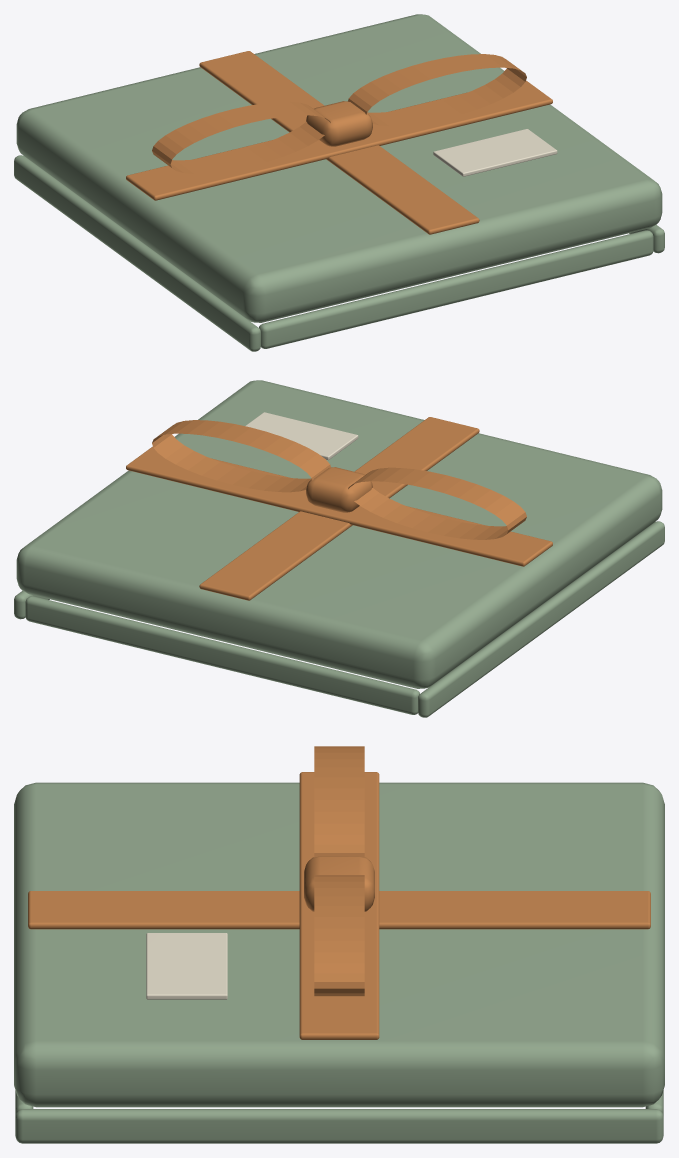
File: gift-lid-040.glb
The picture shows the model from 3 angles, top to bottom: view 1: azimuth 30°, elevation 25°; view 2: azimuth 150°, elevation 25°; view 3: azimuth 270°, elevation 25°; orthographic projection. The views are drawn at different scales.
Parts seen in each view (by area): view 1: gift-lid-040 / 23 / gift wrap sage, gift-lid-040 / 18 / saffron textile, gift-lid-040 / 20 / glazed cream ceramic; view 2: gift-lid-040 / 23 / gift wrap sage, gift-lid-040 / 18 / saffron textile, gift-lid-040 / 20 / glazed cream ceramic; view 3: gift-lid-040 / 23 / gift wrap sage, gift-lid-040 / 18 / saffron textile, gift-lid-040 / 20 / glazed cream ceramic.
Part boxes in pixels (x1,y1,x2,y2): gift-lid-040 / 23 / gift wrap sage: (14,14,664,351); gift-lid-040 / 18 / saffron textile: (126,51,552,234); gift-lid-040 / 20 / glazed cream ceramic: (433,129,557,176); gift-lid-040 / 23 / gift wrap sage: (14,380,664,717); gift-lid-040 / 18 / saffron textile: (126,417,552,600); gift-lid-040 / 20 / glazed cream ceramic: (245,412,358,460); gift-lid-040 / 23 / gift wrap sage: (14,782,664,1143); gift-lid-040 / 18 / saffron textile: (28,746,650,1039); gift-lid-040 / 20 / glazed cream ceramic: (146,933,227,999).
Bounding box in the file's own units: 0.44 × 0.125 × 0.44.
